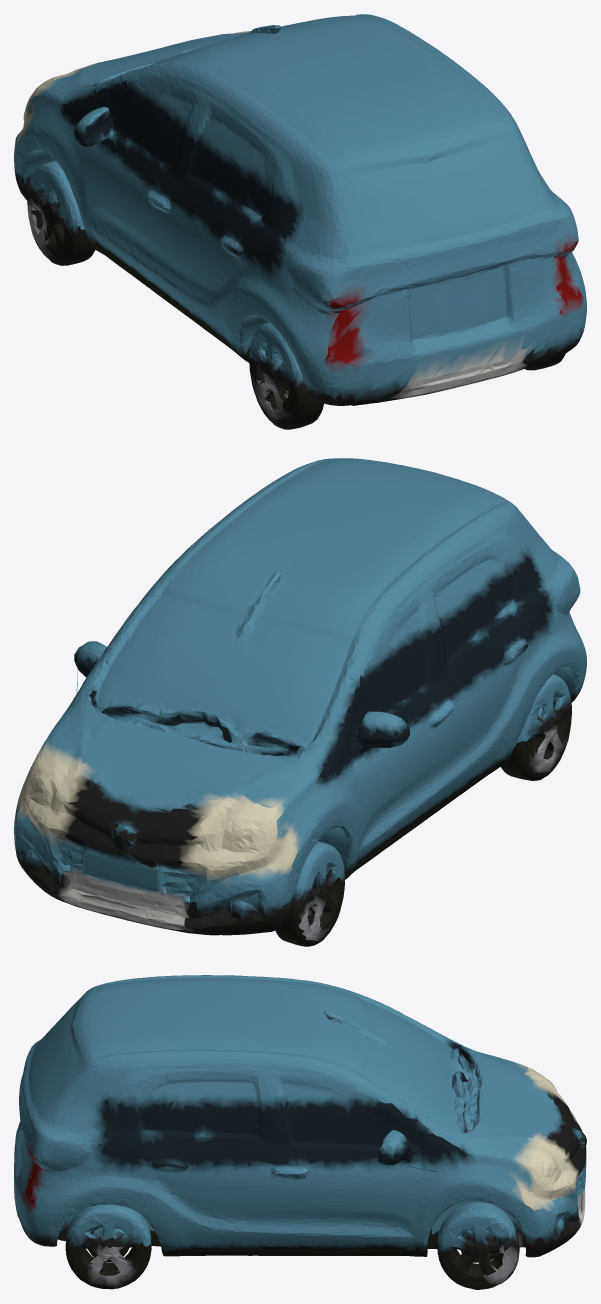
File: tiba.glb
3 views of the same model, one above another, from view 1: azimuth 30°, elevation 25°; view 2: azimuth 150°, elevation 25°; view 3: azimuth 270°, elevation 25° (orthographic). The views are drawn at different scales.
Parts seen in each view (by area): view 1: body, wheel_1, wheel_0; view 2: body, wheel_0, wheel_1; view 3: body, wheel_3, wheel_2.
Boxes of the visible parts, x1,y1,x2,y2 form: body: [14, 14, 586, 405]; wheel_1: [245, 345, 323, 429]; wheel_0: [27, 193, 95, 265]; body: [14, 458, 586, 946]; wheel_0: [217, 880, 344, 946]; wheel_1: [501, 706, 571, 780]; body: [14, 975, 586, 1278]; wheel_3: [59, 1228, 160, 1289]; wheel_2: [425, 1223, 575, 1289].
Size of the model in its own units: 86.68 by 69.34 by 158.
